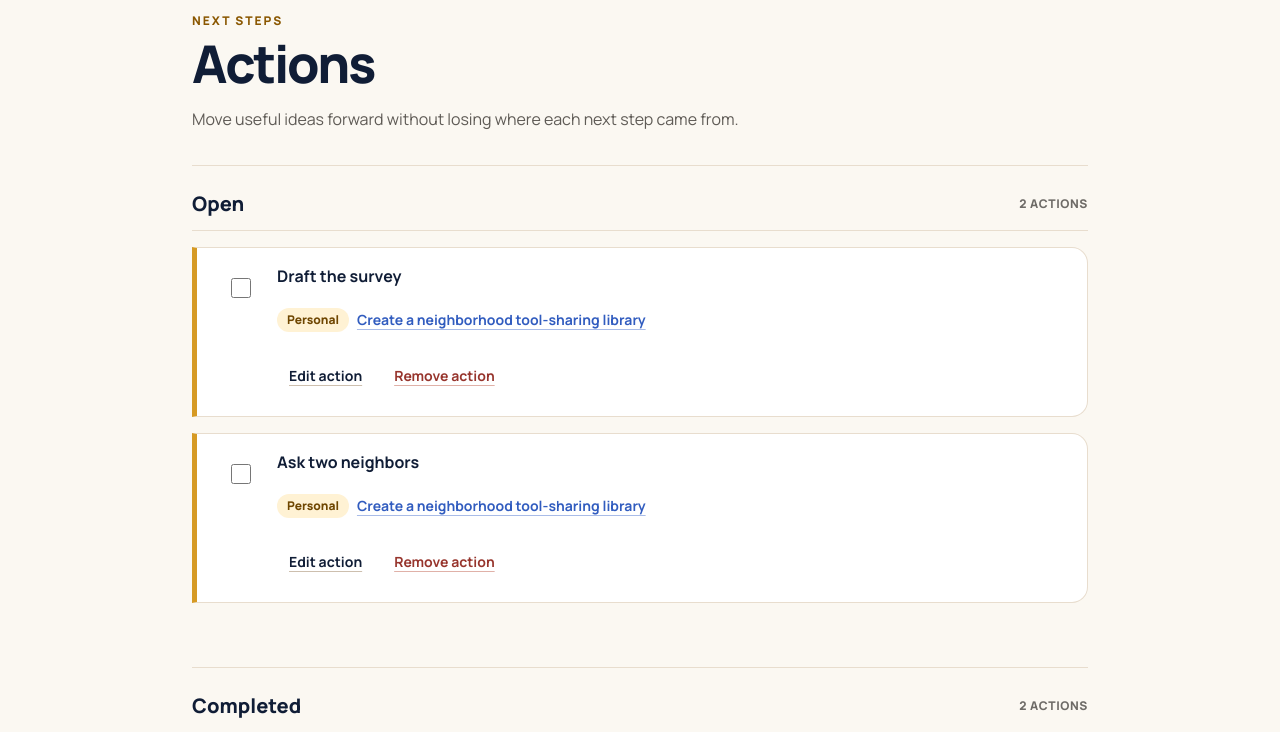
it: ActionsScreen › keeps an action and announces preservation when removal fails
Click the button "Remove action" below "Draft the survey". click: click(444, 376)
box: [382,352,507,400]
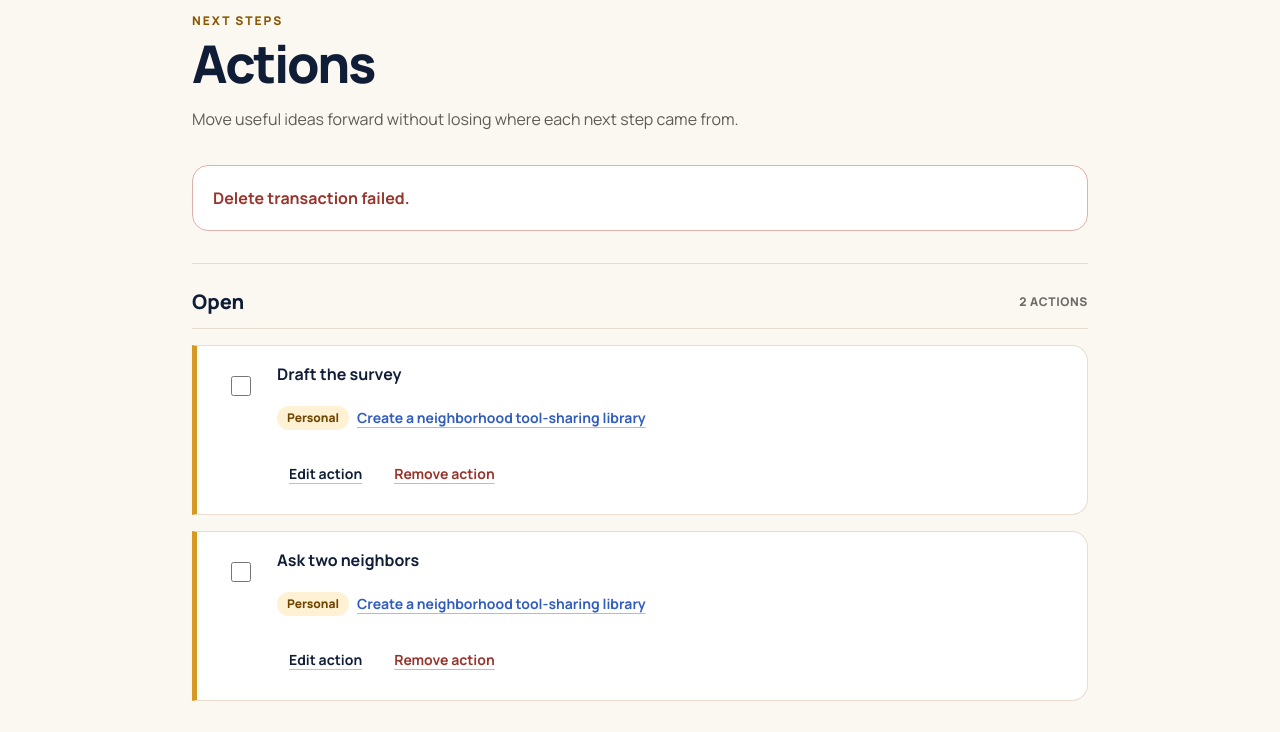
Expected: the text "Draft the survey" is shown, [277,363,402,385]
Now the message reads "Delete transaction failed.", box [213,187,410,209]
